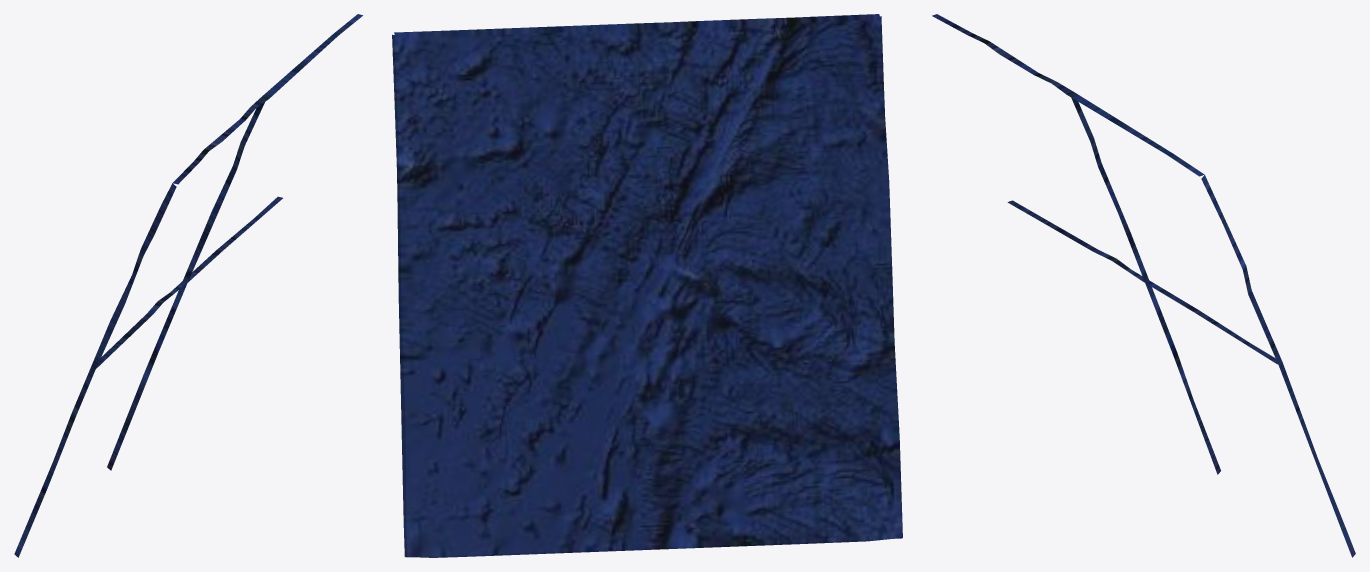
The picture shows the model from 3 angles, left to right: view 1: azimuth 30°, elevation 25°; view 2: azimuth 150°, elevation 25°; view 3: azimuth 270°, elevation 25°; orthographic projection. The views are drawn at different scales.
Size of the model in its own units: 308635 by 295245 by 265735.
1 material, 1 textured.
